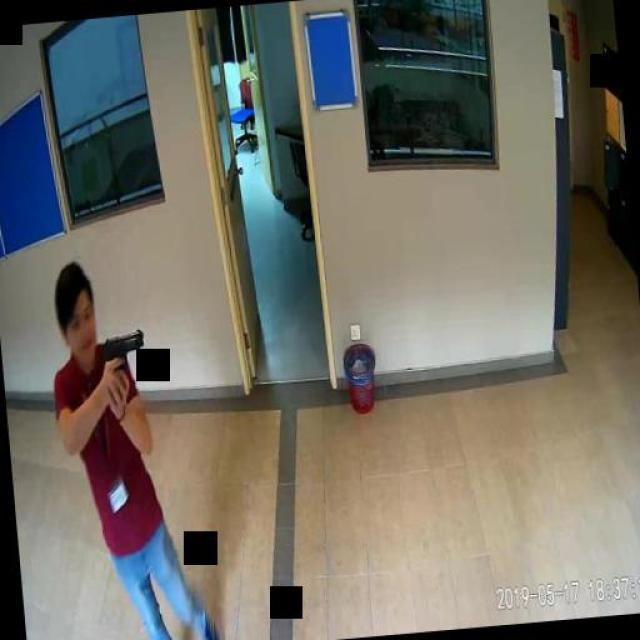gun: (100, 329, 148, 400)
